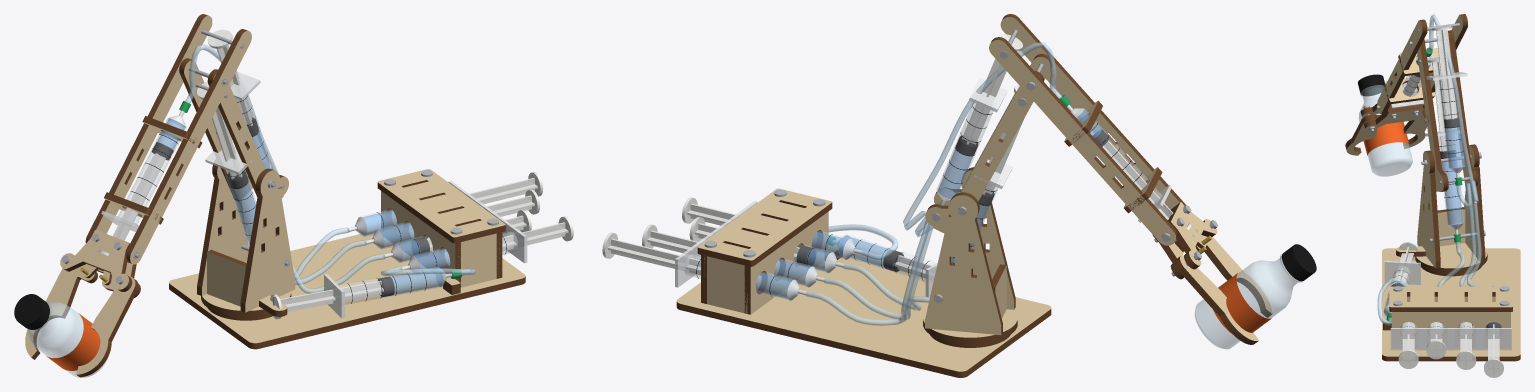
File: BracoRA.glb
The picture shows the model from 3 angles, left to right: view 1: azimuth 30°, elevation 25°; view 2: azimuth 150°, elevation 25°; view 3: azimuth 270°, elevation 25°; orthographic projection. The views are drawn at different scales.
Visible parts, largest first — view 1: P00_Base, P09_Torre_E, P01_Caixa_Topo, P05_Antebraco_E, P05_Antebraco_D, P09_Torre_D, P02_Caixa_Tras, Garrafa_Corpo, P03_Lanca_E, P12_Dedo_DC1_E, Seringa_garra_Corpo, Seringa_giro_Corpo (+36 smaller); view 2: P00_Base, P09_Torre_D, P05_Antebraco_D, P01_Caixa_Topo, P05_Antebraco_E, Garrafa_Corpo, P02_Caixa_Tras, Mangueira_garra, P03_Lanca_D, Seringa_cotovelo_Corpo, P17_Caixa_Lado, P09_Torre_E (+28 smaller); view 3: P00_Base, P01_Caixa_Topo, P09_Torre_E, P02_Caixa_Frente, Garrafa_Corpo, P03_Lanca_E, P09_Torre_D, Mangueira_garra, Seringa_cotovelo_Corpo, P05_Antebraco_E, Seringa_cotovelo_Embolo, P07_Disco_Giro (+39 smaller).
Part boxes in pixels (bbox=[...]): P00_Base: bbox=[169, 229, 525, 349]; P09_Torre_E: bbox=[240, 168, 295, 312]; P01_Caixa_Topo: bbox=[377, 169, 505, 243]; P05_Antebraco_E: bbox=[126, 29, 251, 264]; P05_Antebraco_D: bbox=[85, 14, 212, 242]; P09_Torre_D: bbox=[197, 159, 248, 295]; P02_Caixa_Tras: bbox=[381, 191, 460, 287]; Garrafa_Corpo: bbox=[27, 302, 108, 377]; P03_Lanca_E: bbox=[207, 69, 288, 198]; P12_Dedo_DC1_E: bbox=[76, 276, 138, 377]; Seringa_garra_Corpo: bbox=[118, 118, 186, 223]; Seringa_giro_Corpo: bbox=[339, 267, 443, 304]; P00_Base: bbox=[676, 256, 1051, 377]; P09_Torre_D: bbox=[925, 192, 1002, 335]; P05_Antebraco_D: bbox=[989, 37, 1177, 245]; P01_Caixa_Topo: bbox=[697, 188, 832, 266]; P05_Antebraco_E: bbox=[1000, 14, 1185, 209]; Garrafa_Corpo: bbox=[1194, 254, 1302, 349]; P02_Caixa_Tras: bbox=[744, 211, 828, 314]; Mangueira_garra: bbox=[805, 42, 1062, 325]; P03_Lanca_D: bbox=[925, 70, 1043, 233]; Seringa_cotovelo_Corpo: bbox=[937, 103, 992, 199]; P17_Caixa_Lado: bbox=[704, 255, 747, 313]; P09_Torre_E: bbox=[951, 167, 1015, 309]; P00_Base: bbox=[1382, 248, 1520, 361]; P01_Caixa_Topo: bbox=[1389, 286, 1512, 311]; P09_Torre_E: bbox=[1417, 150, 1440, 268]; P02_Caixa_Frente: bbox=[1391, 312, 1510, 346]; Garrafa_Corpo: bbox=[1358, 85, 1412, 176]; P03_Lanca_E: bbox=[1417, 39, 1448, 191]; P09_Torre_D: bbox=[1464, 144, 1485, 262]; Mangueira_garra: bbox=[1427, 14, 1494, 286]; Seringa_cotovelo_Corpo: bbox=[1439, 78, 1464, 168]; P05_Antebraco_E: bbox=[1377, 19, 1427, 114]; Seringa_cotovelo_Embolo: bbox=[1432, 25, 1459, 128]; P07_Disco_Giro: bbox=[1415, 243, 1487, 273].
Bounding box in the file's own units: 0.5177 × 0.2473 × 0.1643.
